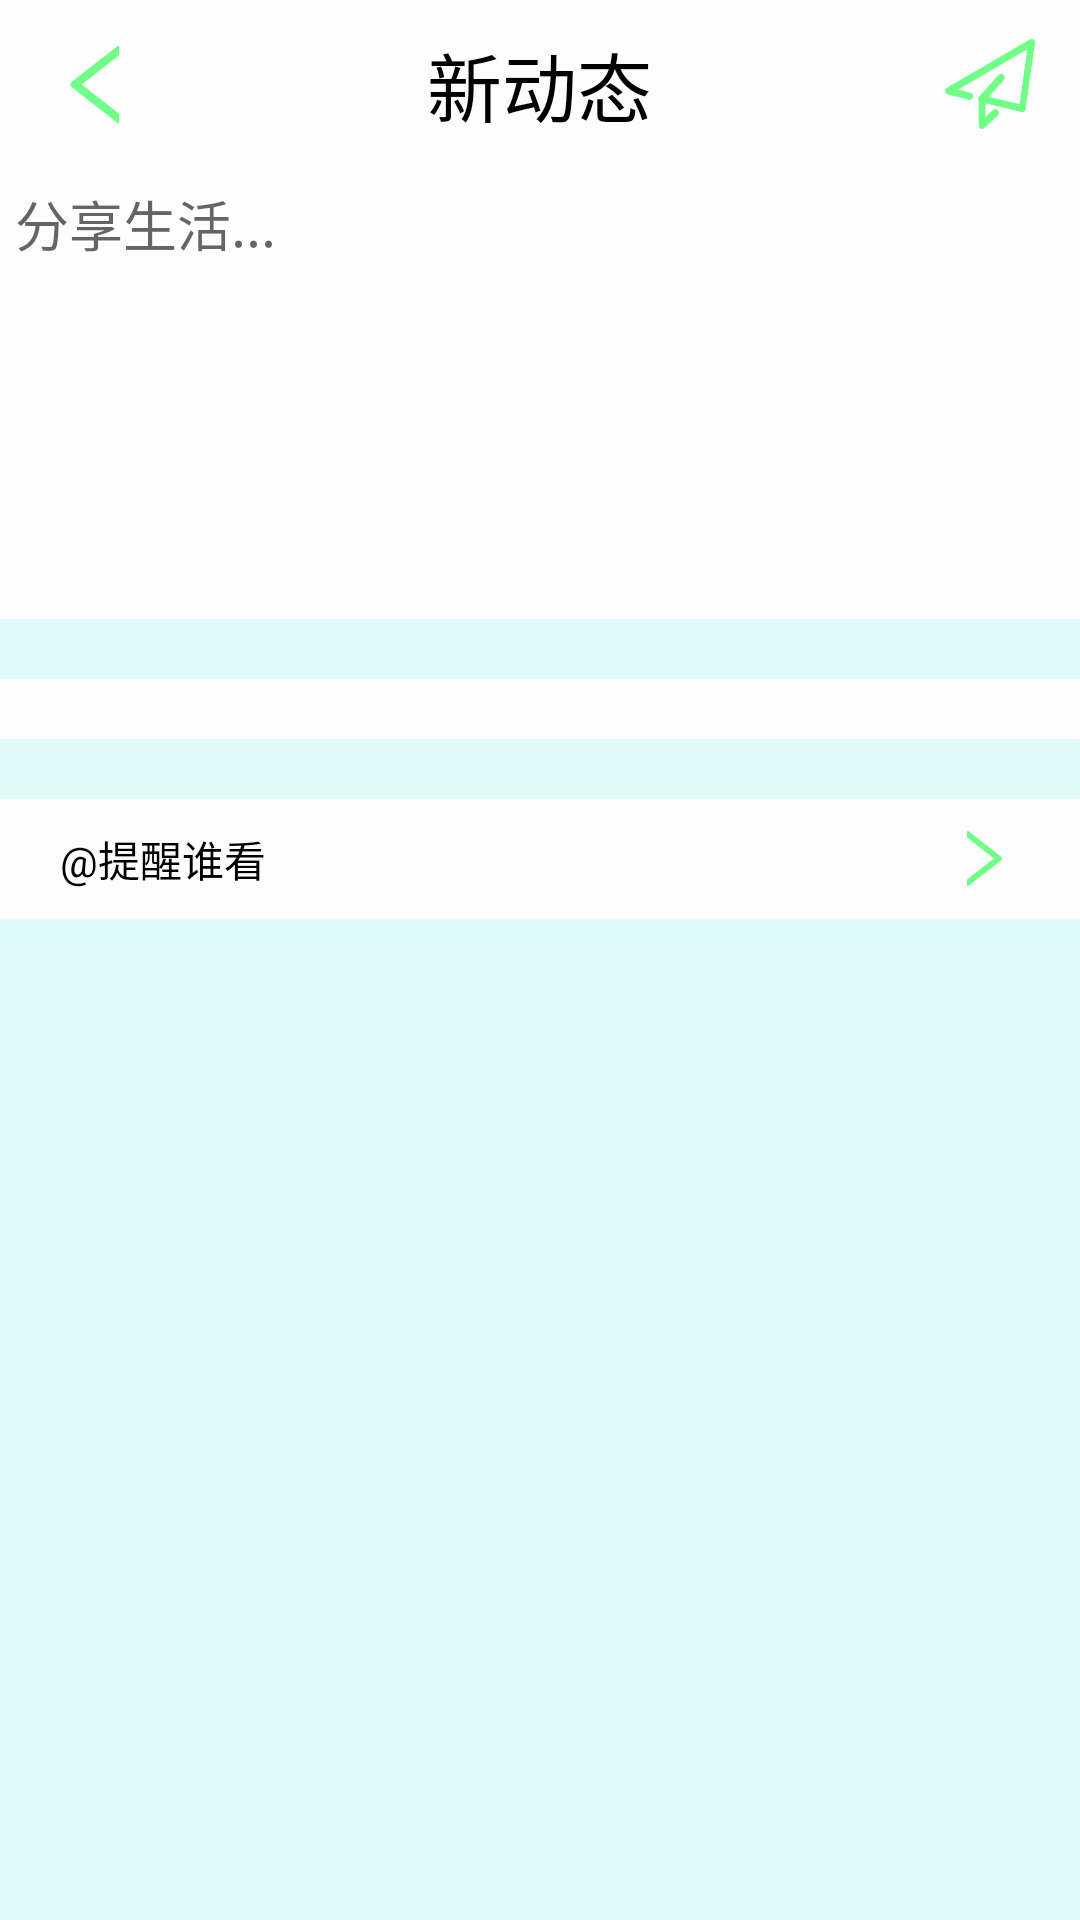

Icon click points for this 1080px×1920px phone screenshot, format (x=x, y=y):
back left: (x=95, y=84)
plus send: (x=990, y=84)
right: (x=984, y=858)
